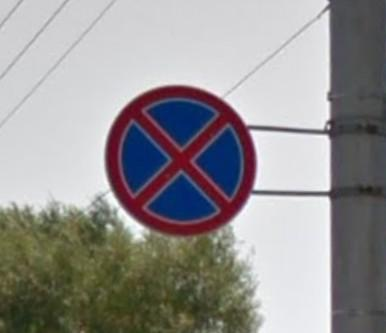No Parking: (105, 84, 258, 239)
